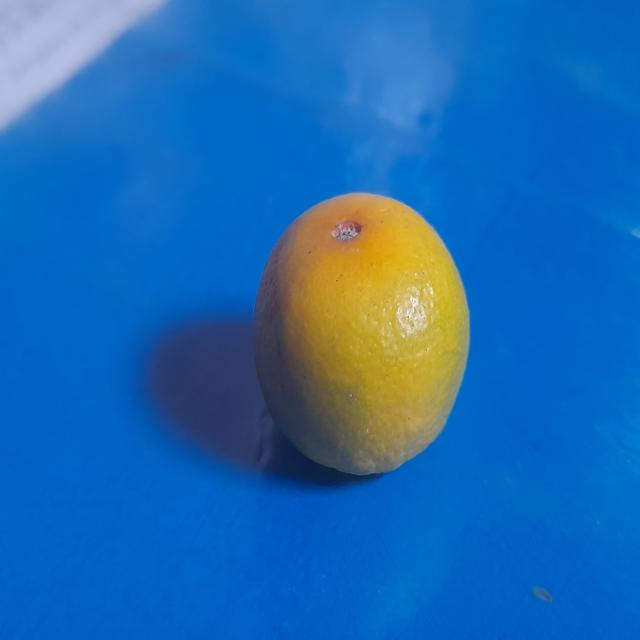greening: (253, 186, 481, 486)
